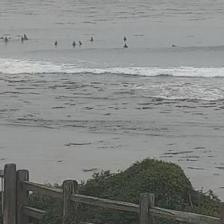surfer: (23, 34, 29, 40), (4, 37, 12, 41), (123, 43, 128, 48), (171, 44, 177, 48), (72, 41, 76, 47), (21, 36, 24, 42), (90, 36, 93, 41), (54, 41, 57, 46), (124, 37, 127, 41), (79, 41, 82, 45), (1, 36, 4, 39)
